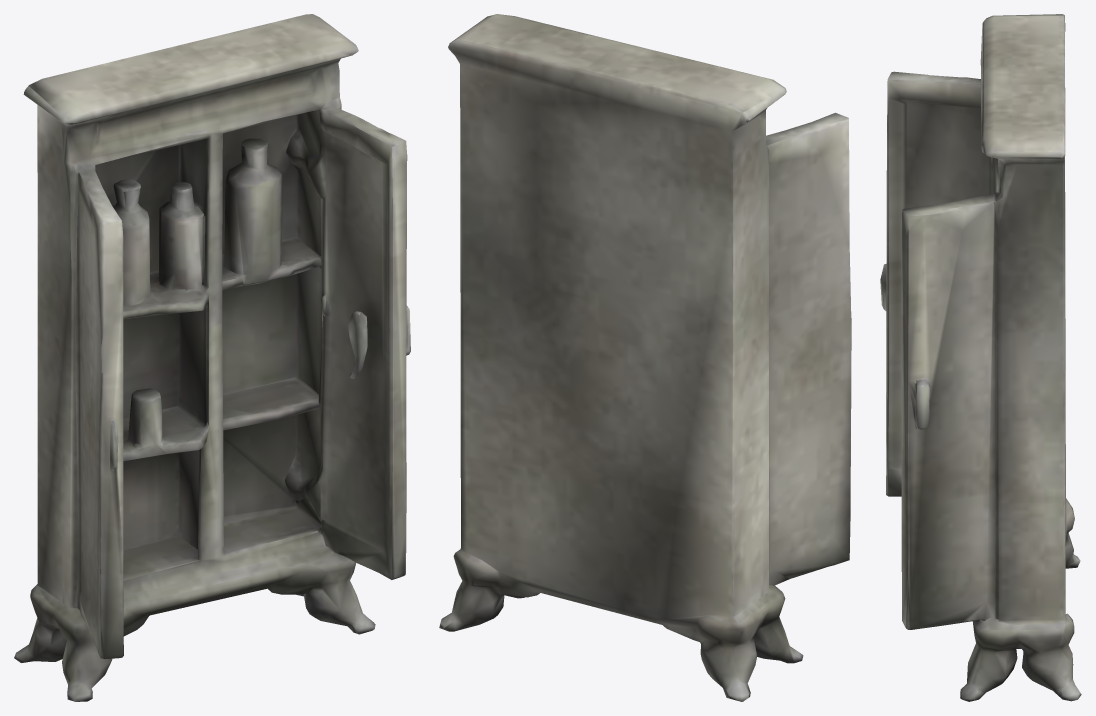
File: plain-white-painted-medicine-cabinet-v001.glb
3 renders of one model, left to right at view 1: azimuth 30°, elevation 25°; view 2: azimuth 150°, elevation 25°; view 3: azimuth 270°, elevation 25°, orthographic. The views are drawn at different scales.
Visible parts, largest first — view 1: plain-white-painted-medicine-cabinet; view 2: plain-white-painted-medicine-cabinet; view 3: plain-white-painted-medicine-cabinet.
Part boxes in pixels (bbox=[...]): plain-white-painted-medicine-cabinet: bbox=[14, 14, 410, 701]; plain-white-painted-medicine-cabinet: bbox=[439, 14, 851, 701]; plain-white-painted-medicine-cabinet: bbox=[880, 14, 1081, 701].
Bounding box in the file's own units: 1.01 × 1.72 × 0.5649.
Materials: 1 (1 with a texture image).
